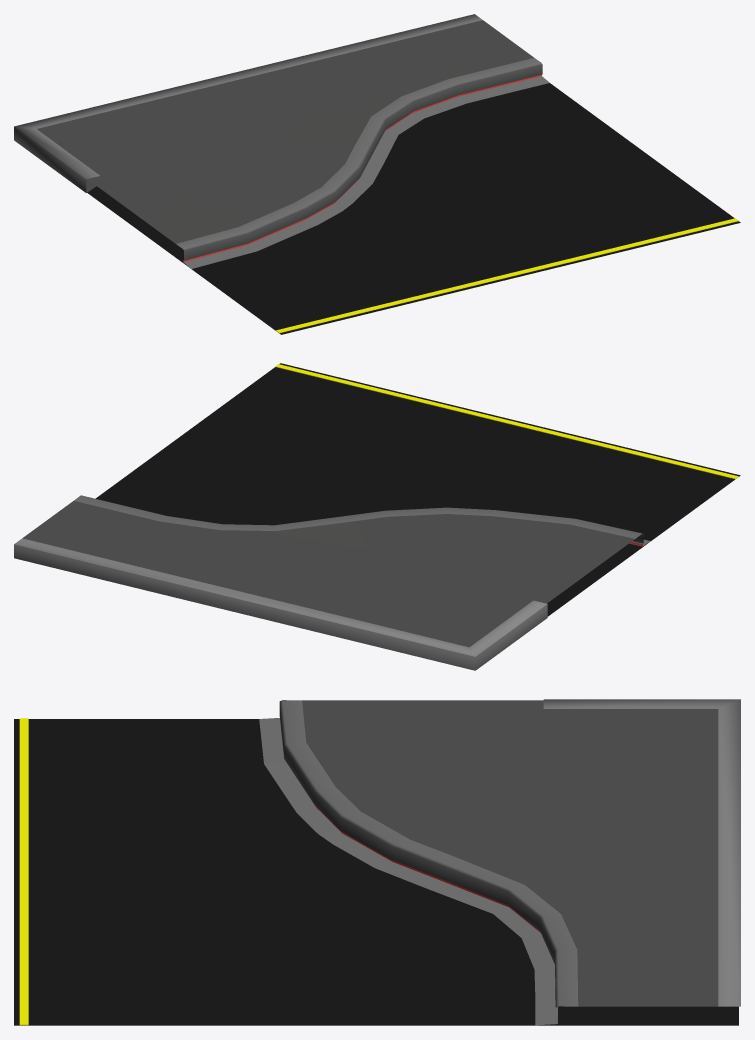
The picture shows the model from 3 angles, top to bottom: view 1: azimuth 30°, elevation 25°; view 2: azimuth 150°, elevation 25°; view 3: azimuth 270°, elevation 25°; orthographic projection. The views are drawn at different scales.
Visible parts, largest first — view 1: W_R_001_8x8_AB_L2; view 2: W_R_001_8x8_AB_L2; view 3: W_R_001_8x8_AB_L2.
Boxes of the visible parts, x1,y1,x2,y2 form: W_R_001_8x8_AB_L2: (14,14,740,334); W_R_001_8x8_AB_L2: (14,363,740,670); W_R_001_8x8_AB_L2: (14,699,740,1025).
Size of the model in its own units: 8.02 by 0.2321 by 8.02.
